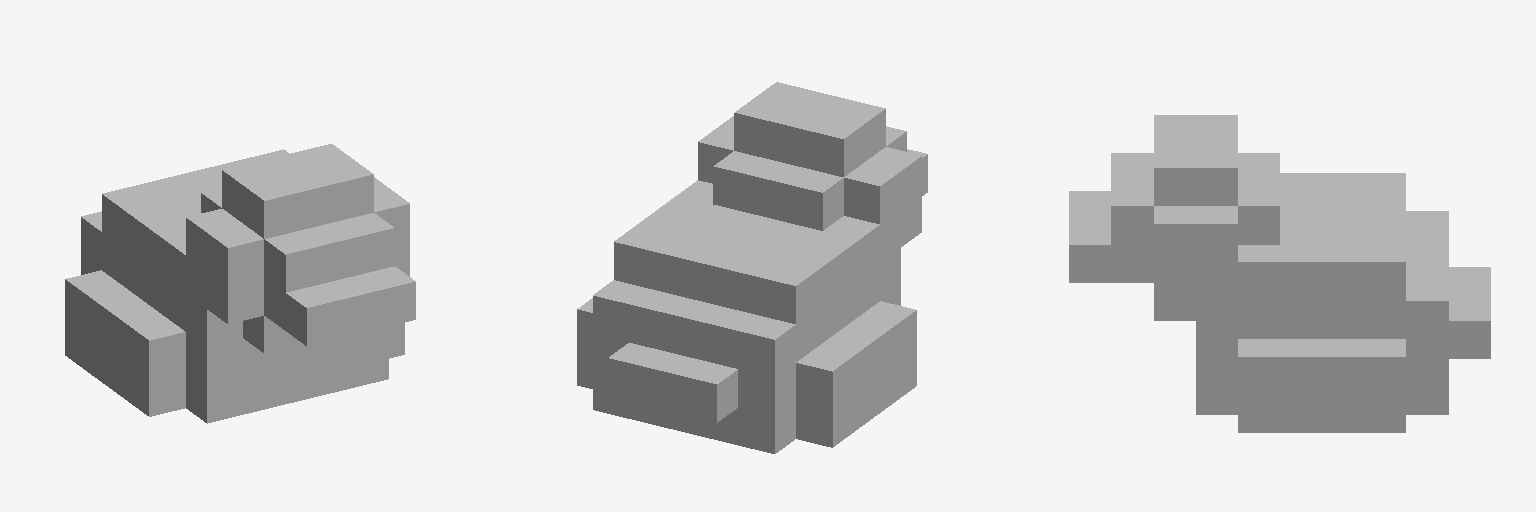
The model's file is duck.obj.
The picture shows the model from 3 angles: view 1: azimuth 30°, elevation 25°; view 2: azimuth 150°, elevation 25°; view 3: azimuth 270°, elevation 25°; orthographic projection.
Parts seen in each view (by area): view 1: object 1; view 2: object 1; view 3: object 1.
Part boxes in pixels (left/top/right/bottom): object 1: left=65, top=144, right=415, bottom=423; object 1: left=577, top=82, right=927, bottom=453; object 1: left=1069, top=115, right=1490, bottom=432.
Size of the model in its own units: 0.7 by 0.6 by 1.